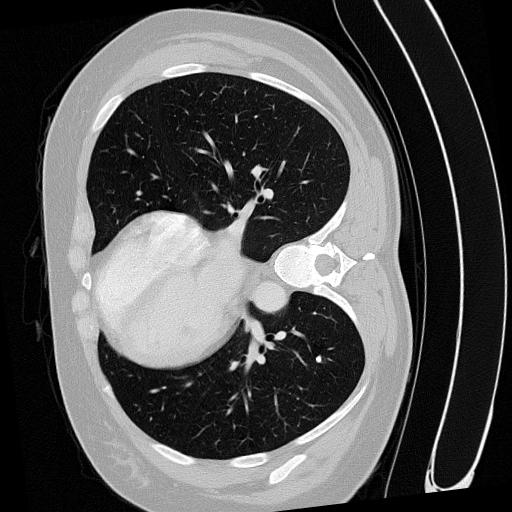nodule: (313, 352, 326, 365)
